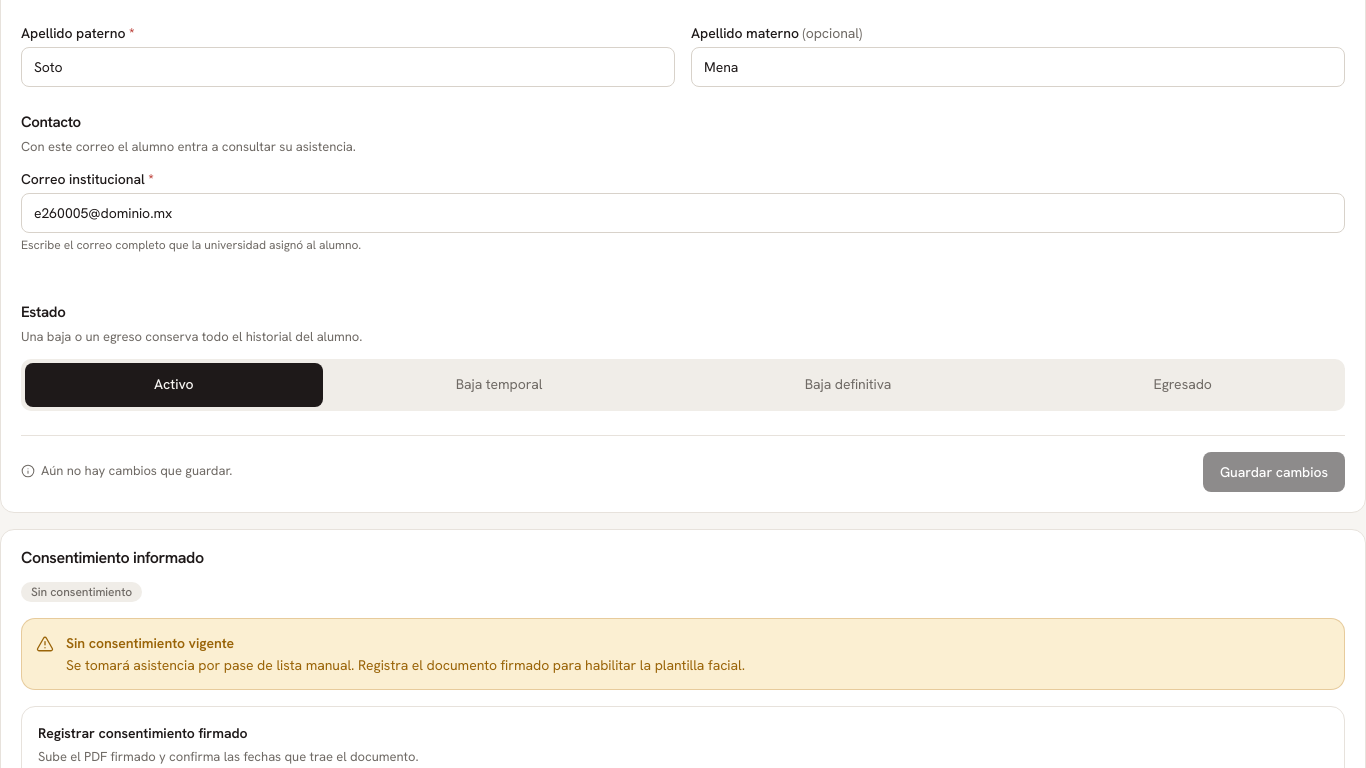
Test case: DetalleAlumno: baja con confirmación única › cancelar la confirmación no cambia nada y el formulario conserva el cambio sin guardar
The width and height of the screenshot is (1366, 768).
(page scrolled)
What coordinates should you click on to do the following:
click the radio button labelled "Egresado"
I would click on:
 (1183, 384)
Its box is [1024,362,1341,406].
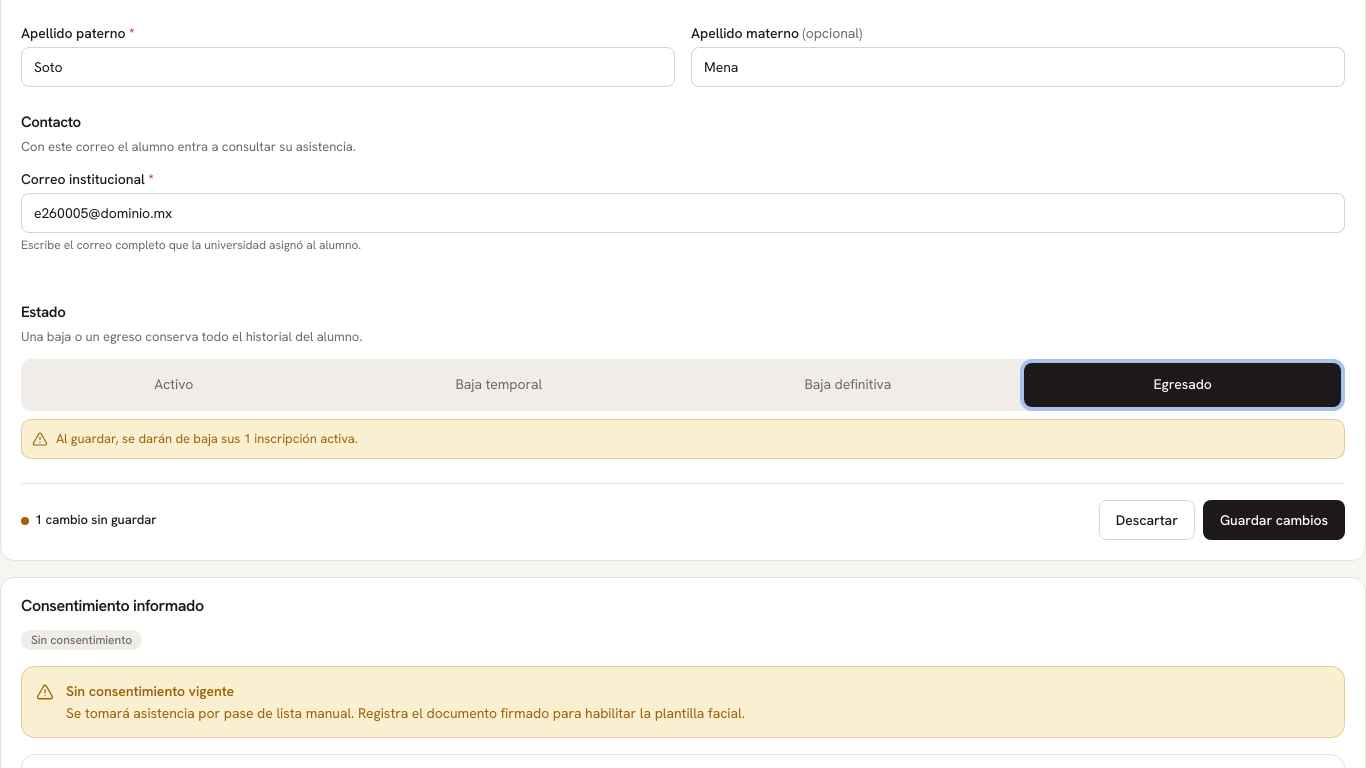
What coordinates should you click on to do the following:
click the button "Guardar cambios"
I would click on:
 (1274, 520)
Its box is [1203,500,1345,540].
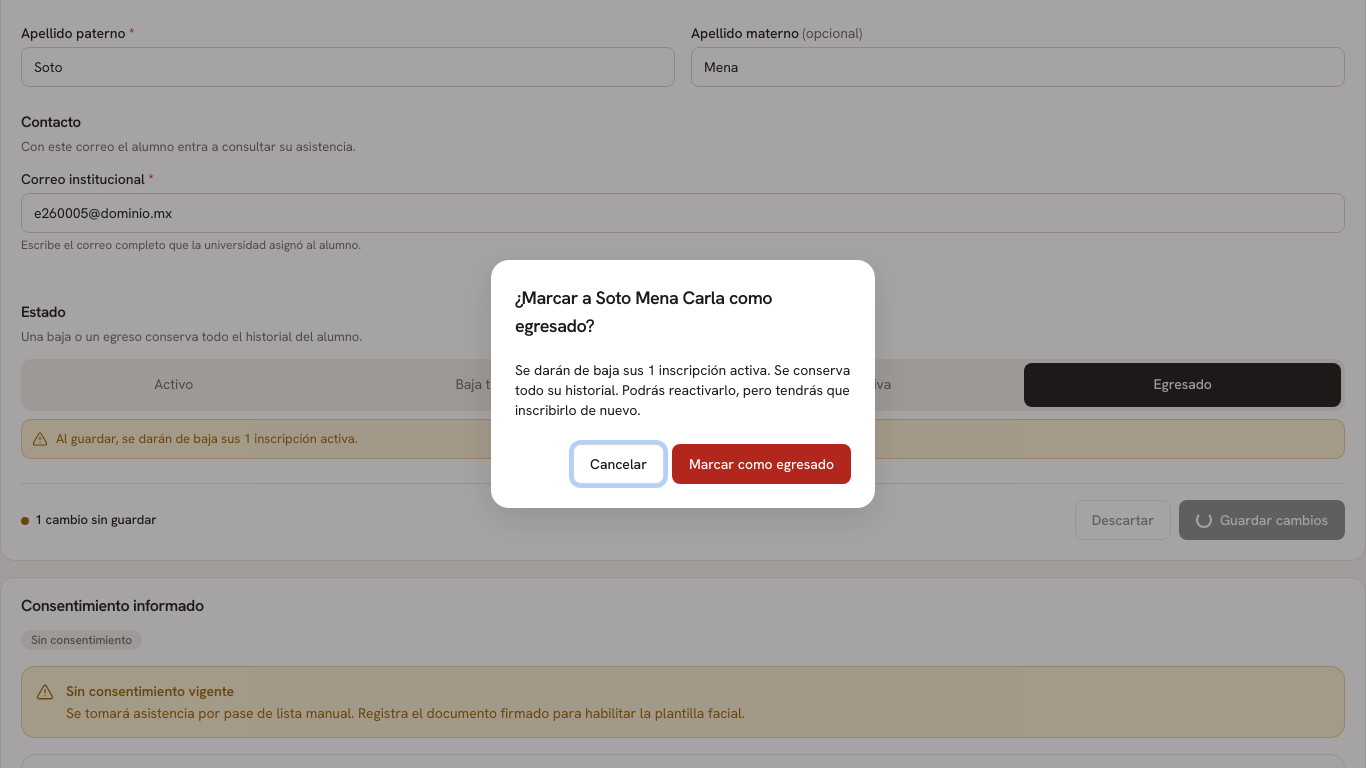
Result: the heading "¿Marcar a Soto Mena Carla como egresado?" is shown at [515,286,772,337]
What coordinates should you click on to do the following:
click the button "Cancelar"
I would click on:
 (618, 464)
Its box is [573,444,664,484].
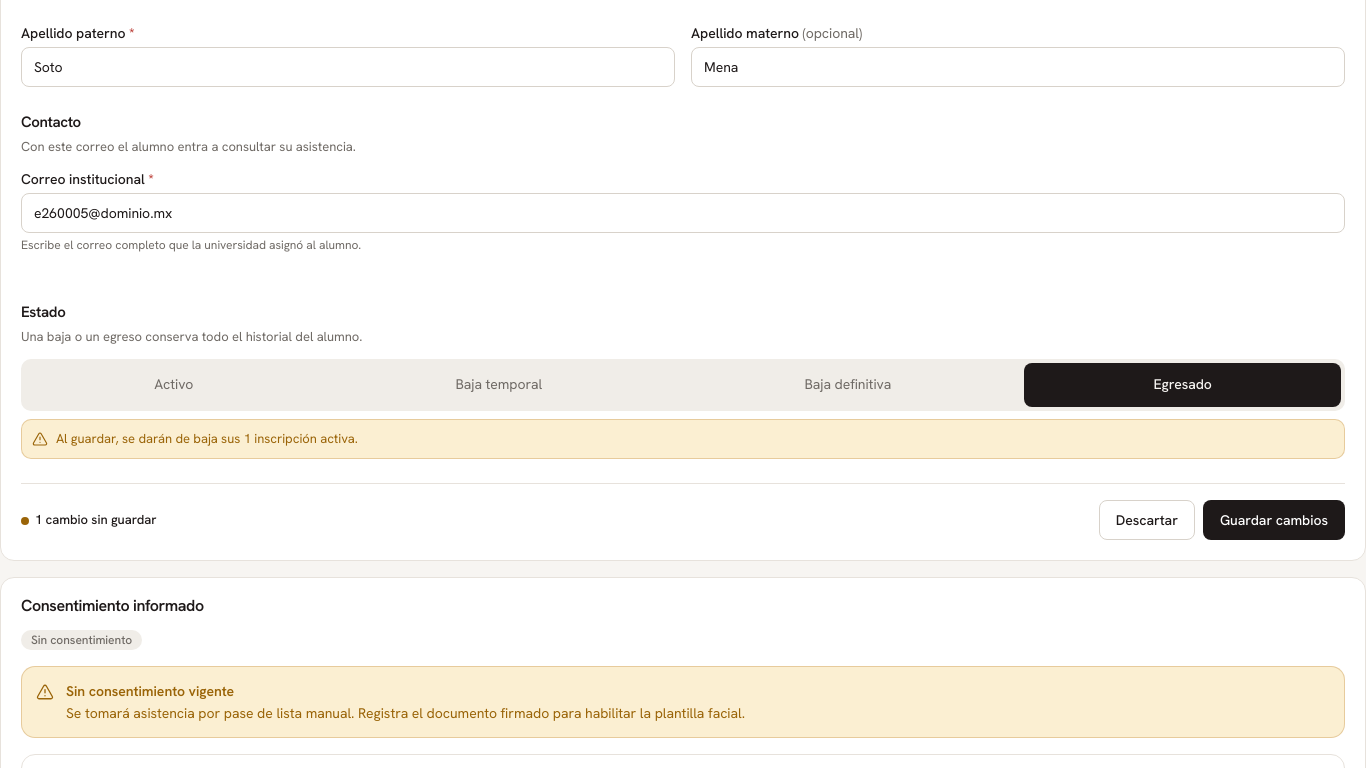
Result: the text "1 cambio sin guardar" is shown at [35,511,157,529]
Result: the dialog is gone
